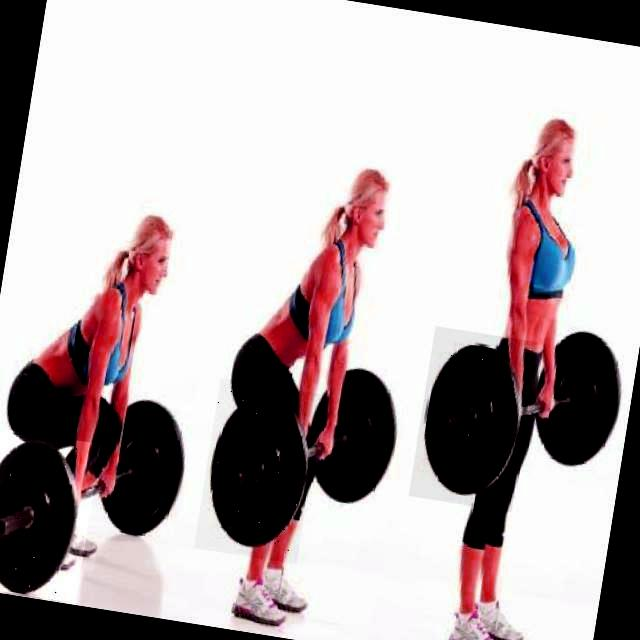barbell: (410, 327, 540, 512), (195, 380, 325, 565), (1, 427, 101, 604)
